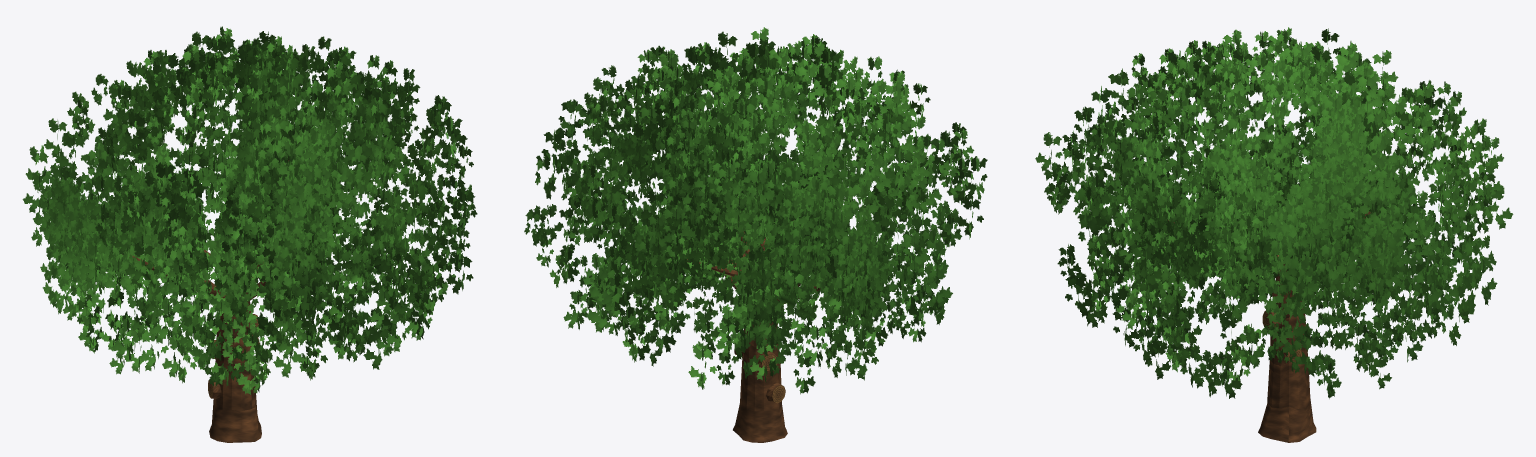
Rendered from maple.glb.
The picture shows the model from 3 angles, left to right: view 1: azimuth 30°, elevation 25°; view 2: azimuth 150°, elevation 25°; view 3: azimuth 270°, elevation 25°; orthographic projection. The views are drawn at different scales.
Visible parts, largest first — view 1: Canopy_Stump, Trunk_Stump, Stump; view 2: Canopy_Stump, Trunk_Stump, Stump; view 3: Canopy_Stump, Trunk_Stump, Stump.
Boxes of the visible parts, box(x1,y1,x2,y2) form: Canopy_Stump: box(22, 26, 477, 394); Trunk_Stump: box(122, 160, 288, 410); Stump: box(209, 402, 261, 442); Canopy_Stump: box(524, 27, 987, 394); Trunk_Stump: box(687, 220, 820, 411); Stump: box(733, 403, 787, 442); Canopy_Stump: box(1035, 27, 1513, 398); Trunk_Stump: box(1168, 180, 1370, 408); Stump: box(1258, 399, 1316, 442).
Size of the model in its own units: 6.87 by 5.82 by 6.74.
3 materials, 3 textured.
